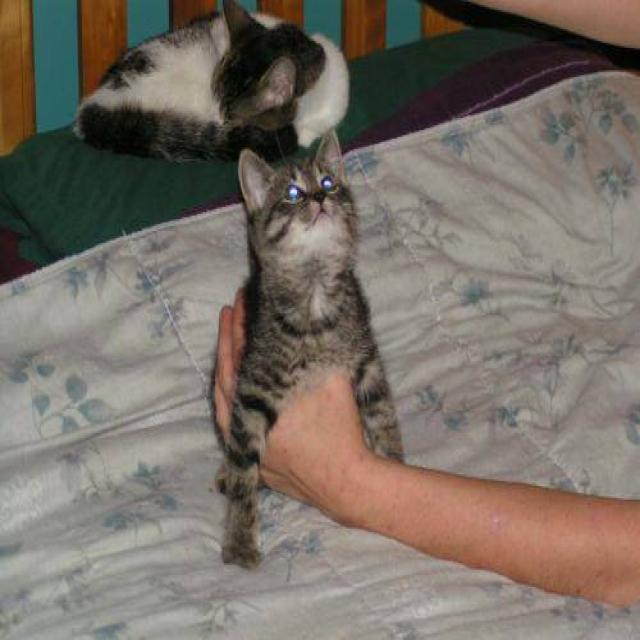cat: (211, 126, 405, 570), (71, 0, 349, 164)
